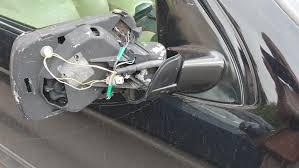Sidemirror-Damage: (11, 8, 183, 122)
